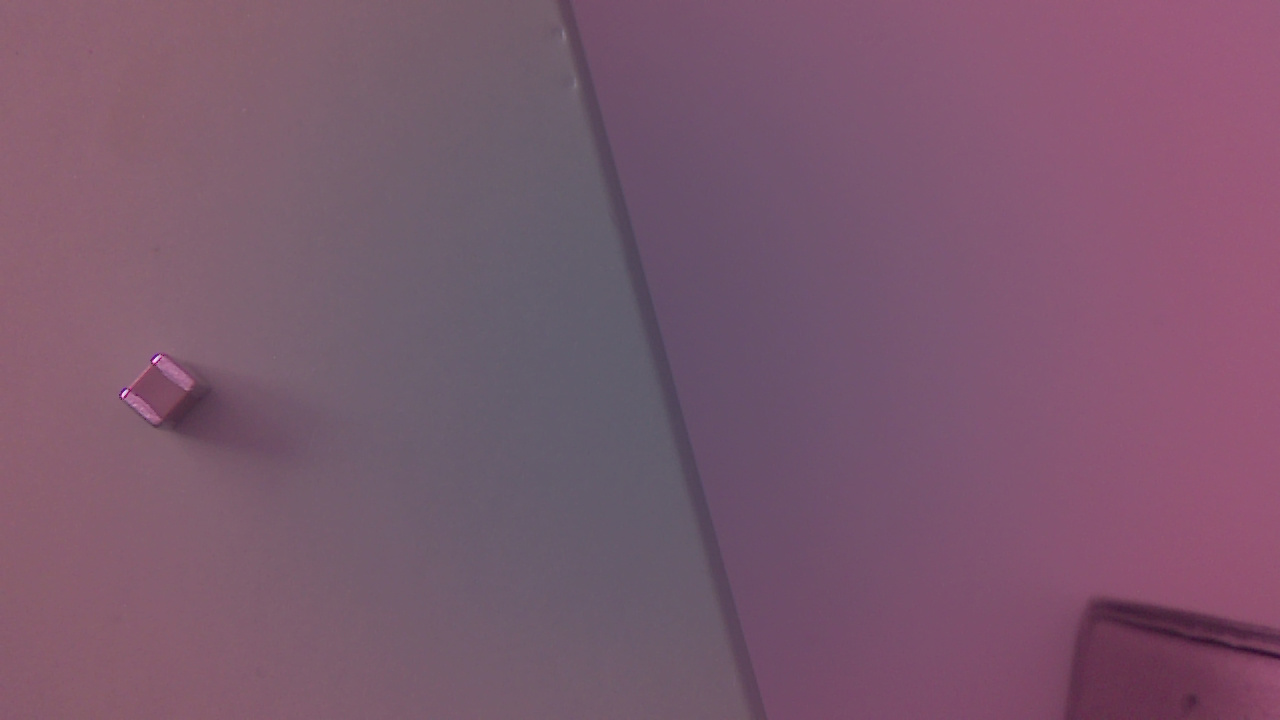Condensator: (123, 359, 207, 437)
